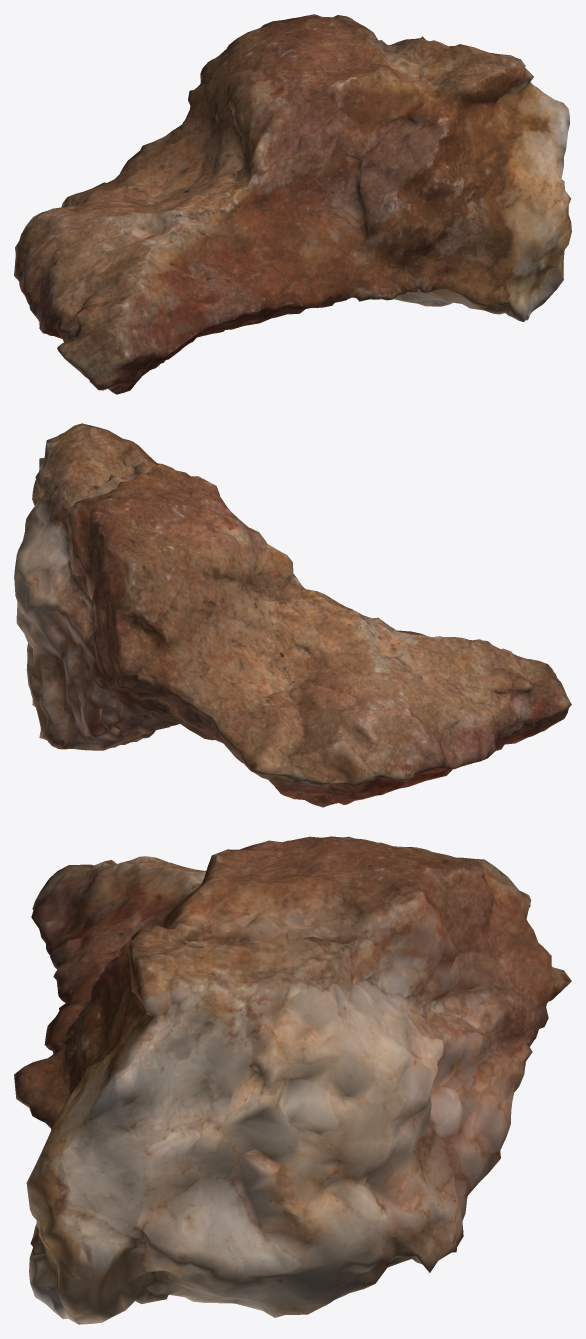
File: prop_rock_d.glb
3 renders of one model, top to bottom at view 1: azimuth 30°, elevation 25°; view 2: azimuth 150°, elevation 25°; view 3: azimuth 270°, elevation 25°, orthographic. The views are drawn at different scales.
Visible parts, largest first — view 1: stone_01; view 2: stone_01; view 3: stone_01.
Part boxes in pixels (<box>): stone_01: <box>14,14,571,394</box>; stone_01: <box>14,423,571,807</box>; stone_01: <box>14,836,571,1324</box>.
Bounding box in the file's own units: 0.1468 × 0.0717 × 0.0893.
Materials: 1 (1 with a texture image).
